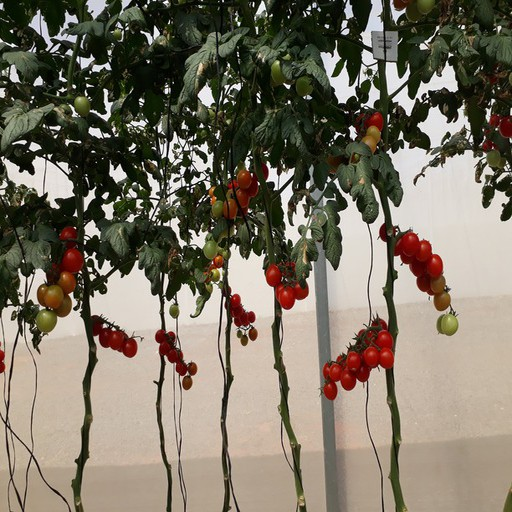green tomato bunch: (259, 47, 316, 95), (205, 230, 231, 267)
mixed tomato bunch: (35, 223, 83, 333), (211, 164, 270, 221), (348, 106, 383, 166)
red tomato bunch: (325, 316, 393, 399), (384, 228, 444, 297), (155, 328, 199, 392), (265, 257, 309, 311), (84, 314, 139, 357), (227, 294, 257, 347), (479, 114, 512, 150)
